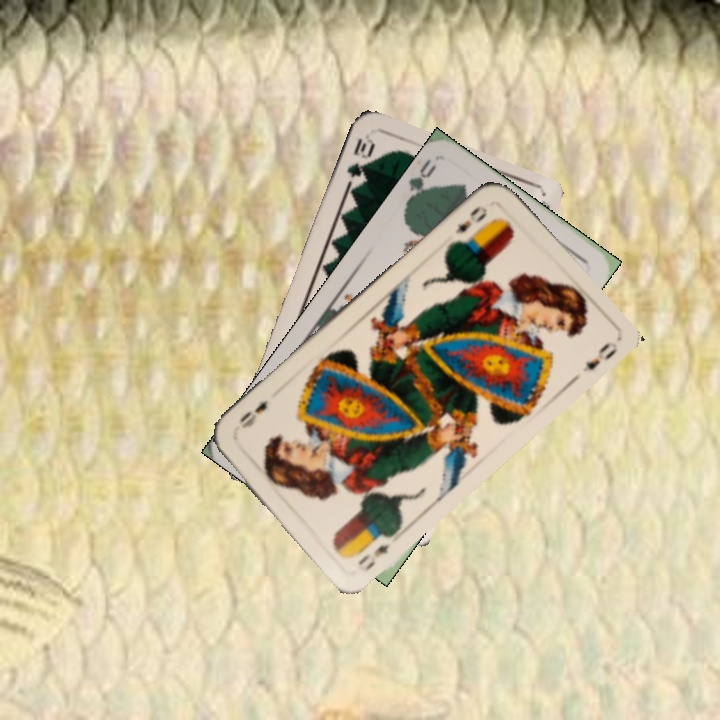EO: (451, 201, 490, 237), (354, 539, 393, 574)
G10: (342, 131, 377, 181)
GO: (401, 154, 439, 210)
